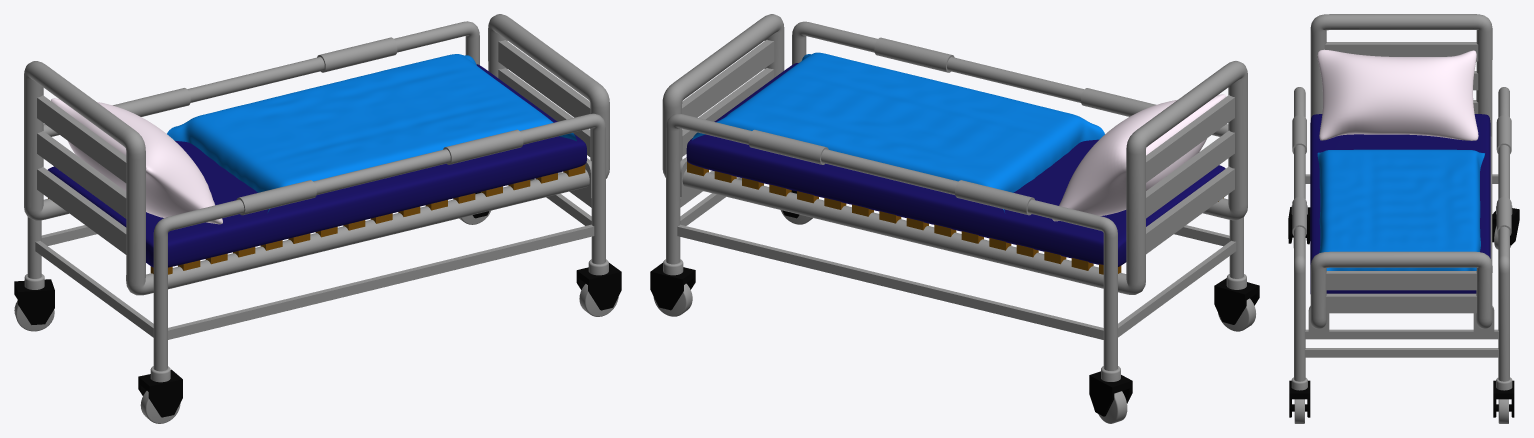
File: Hospital Bed.fbx
3 views of the same model, side by side, from view 1: azimuth 30°, elevation 25°; view 2: azimuth 150°, elevation 25°; view 3: azimuth 270°, elevation 25° (orthographic). The views are drawn at different scales.
Parts seen in each view (by area): view 1: Cylinder.001, Plane.001, Cube.006, Cube.015, Plane, Cube.001, Cube.010; view 2: Cylinder.001, Plane.001, Cube.006, Cube.015, Plane, Cube.001, Cube.010; view 3: Cylinder.001, Plane.001, Cube.006, Plane, Cube.015, Cube.001.
Boxes of the visible parts, x1,y1,x2,y2 form: Cylinder.001: (24, 14, 609, 382); Plane.001: (167, 54, 576, 212); Cube.006: (35, 40, 594, 339); Cube.015: (48, 64, 586, 267); Plane: (51, 98, 222, 224); Cube.001: (14, 192, 621, 423); Cube.010: (48, 164, 585, 274); Cylinder.001: (662, 14, 1247, 381); Plane.001: (692, 52, 1104, 212); Cube.006: (677, 39, 1236, 339); Cube.015: (686, 63, 1225, 266); Plane: (1052, 94, 1226, 221); Cube.001: (650, 190, 1259, 423); Cube.010: (687, 161, 1223, 274); Cylinder.001: (1291, 14, 1512, 390); Plane.001: (1317, 149, 1484, 270); Cube.006: (1305, 42, 1498, 357); Plane: (1317, 49, 1478, 140); Cube.015: (1310, 114, 1490, 293); Cube.001: (1288, 207, 1519, 423).
Size of the model in its own units: 881 by 494 by 452.
